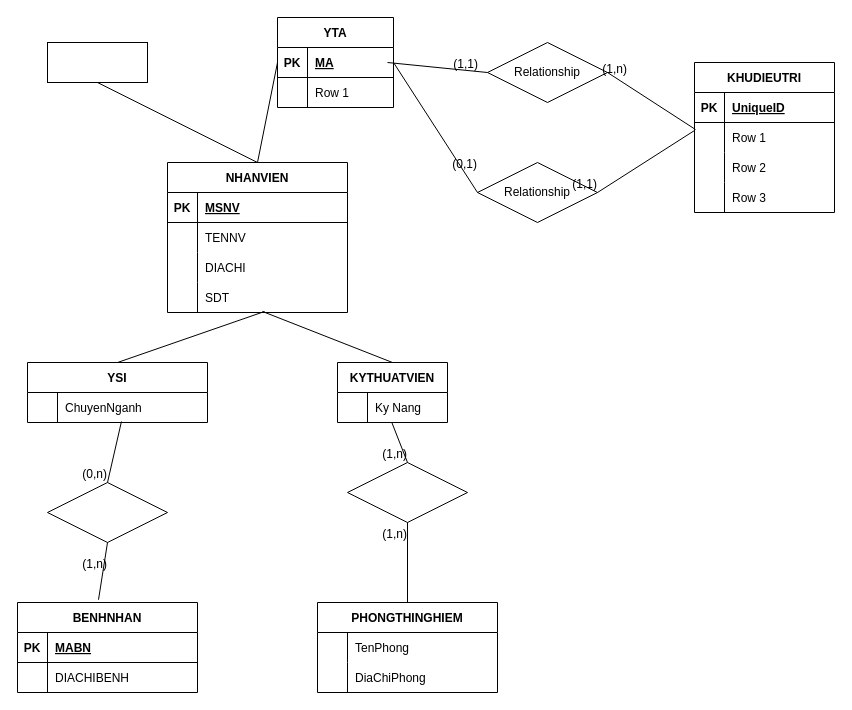
The diagram is 852 pixels wide and 710 high, and some of its shapes have lost their labels. The centre of each missing label's shape, as x and y in pixels:
"NVVP" belongs at pixel 97 62.
"Phục Vụ" belongs at pixel 407 492.
"Điều trị" belongs at pixel 107 512.
